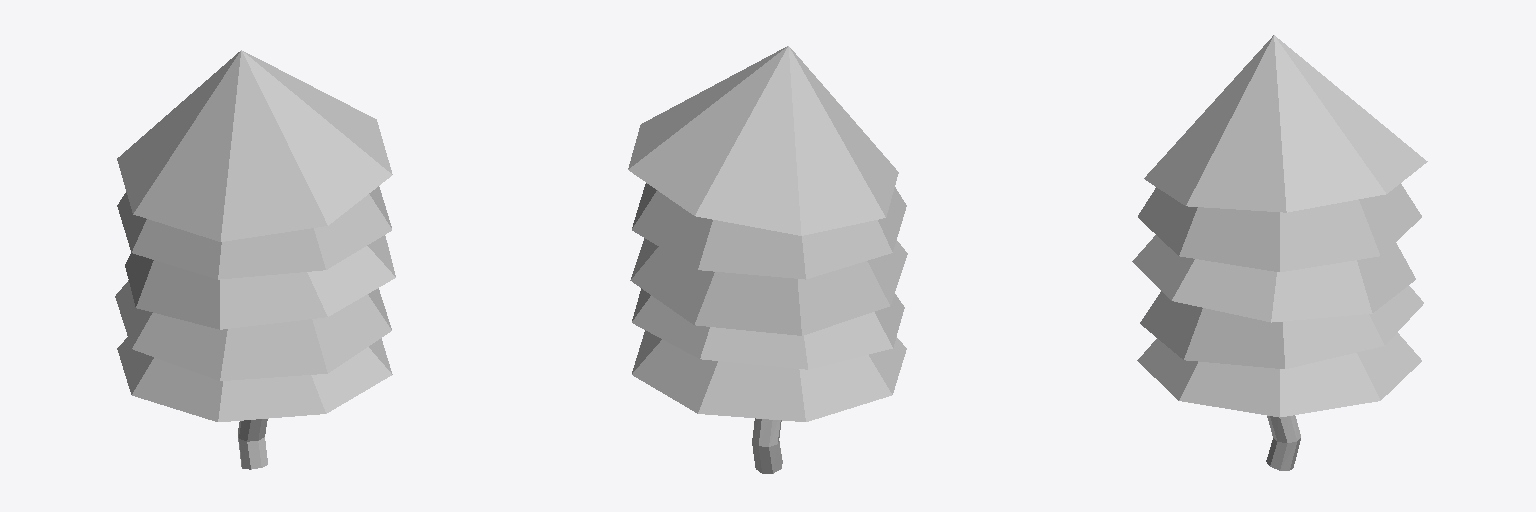
The model's file is vegetaux_sapin.obj.
3 views of the same model, side by side, from view 1: azimuth 30°, elevation 25°; view 2: azimuth 150°, elevation 25°; view 3: azimuth 270°, elevation 25° (orthographic).
Visible parts, largest first — view 1: sapin_Circle, sapin.001_Circle.001; view 2: sapin_Circle, sapin.001_Circle.001; view 3: sapin_Circle, sapin.001_Circle.001.
Boxes of the visible parts, x1,y1,x2,y2 form: sapin_Circle: [115, 50, 395, 421]; sapin.001_Circle.001: [238, 419, 267, 469]; sapin_Circle: [628, 46, 907, 421]; sapin.001_Circle.001: [752, 418, 782, 473]; sapin_Circle: [1132, 35, 1427, 417]; sapin.001_Circle.001: [1266, 415, 1300, 470].
Size of the model in its own units: 1.01 by 1.64 by 1.04.